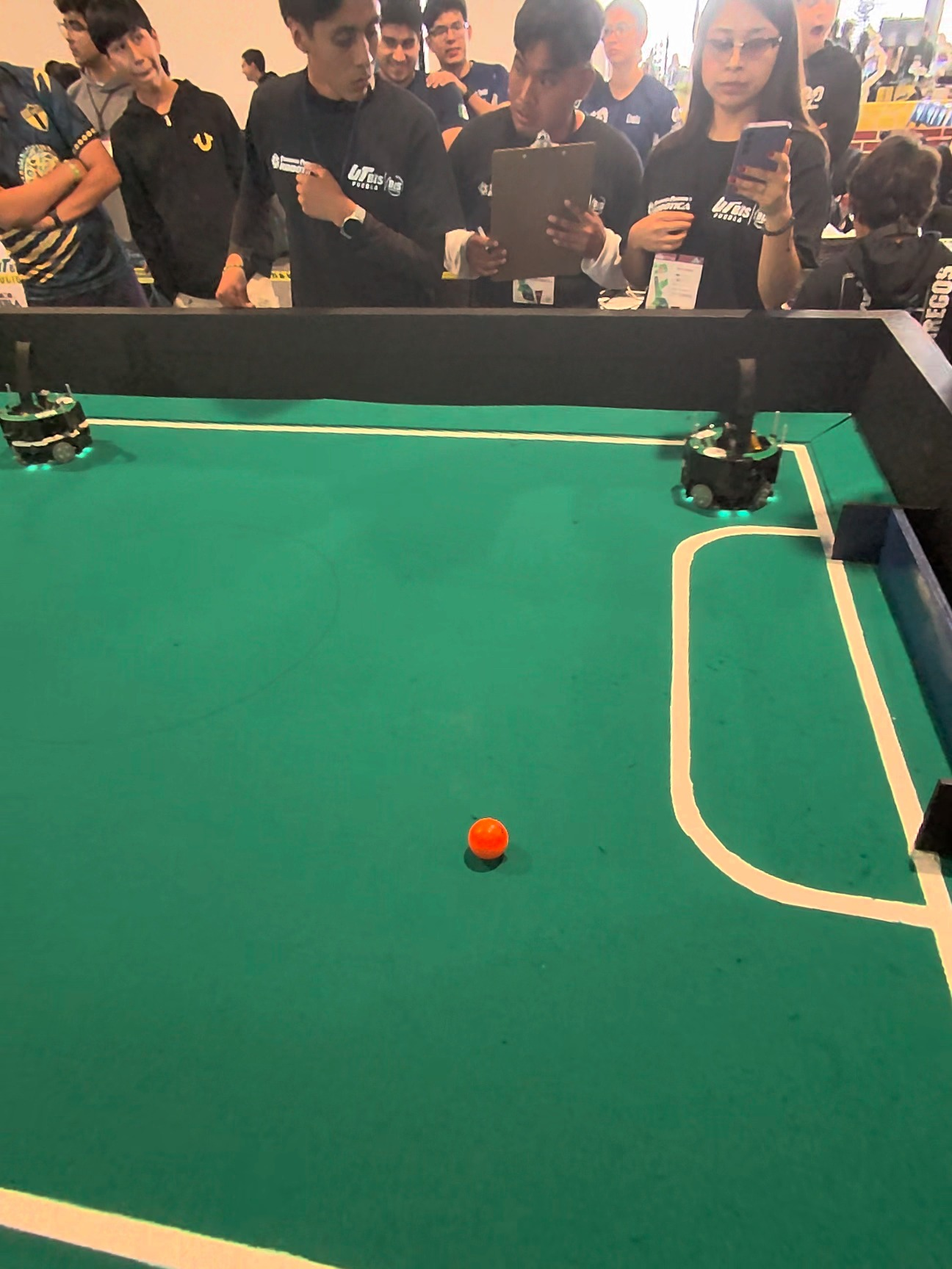Robot: (0, 328, 103, 496), (680, 366, 784, 519)
pelota: (465, 818, 510, 866)
